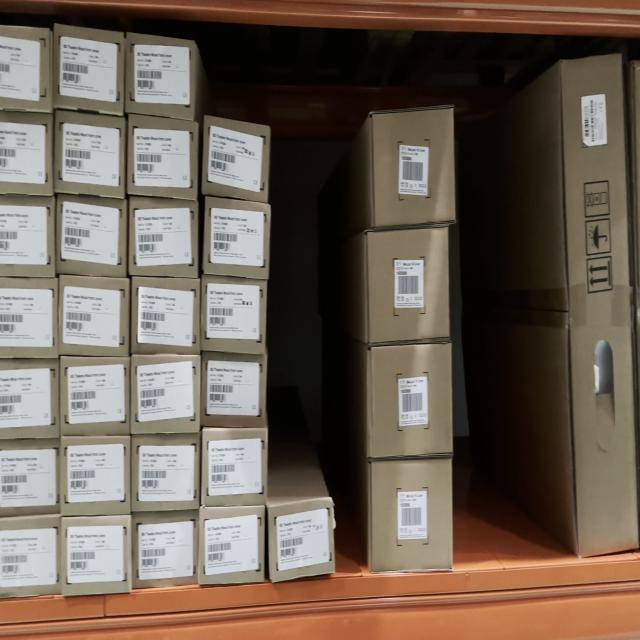box: (561, 53, 639, 557), (370, 461, 451, 575), (369, 228, 448, 342), (372, 114, 456, 221), (369, 350, 452, 454), (130, 117, 197, 198), (61, 437, 130, 514), (60, 278, 128, 354), (60, 359, 129, 433), (56, 119, 124, 193), (130, 202, 197, 277), (133, 357, 199, 433), (53, 36, 123, 106), (64, 518, 130, 592), (269, 501, 332, 576), (57, 202, 126, 270), (203, 430, 266, 504), (206, 201, 267, 277), (133, 438, 199, 508), (200, 508, 263, 581), (132, 282, 199, 350), (127, 43, 194, 109), (133, 516, 197, 583), (202, 281, 266, 347), (203, 356, 265, 424), (204, 128, 270, 190)
